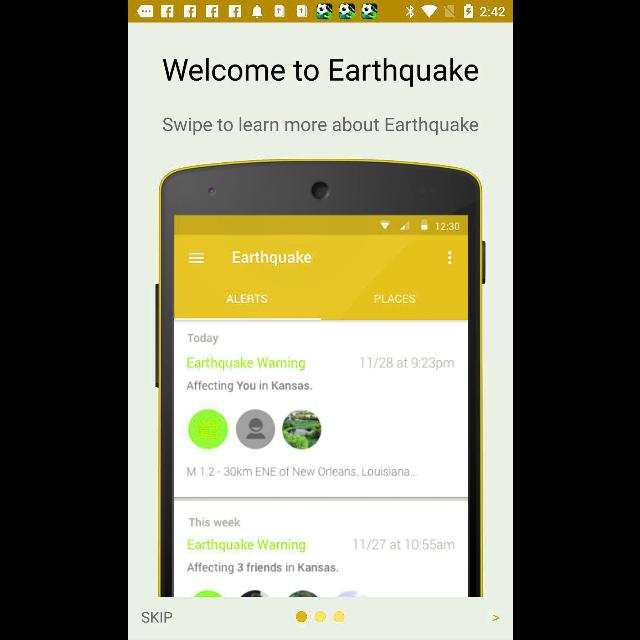icon: (492, 614, 500, 622)
image: (152, 158, 486, 596)
pageindicator: (294, 611, 344, 623)
text: (162, 58, 478, 88), (162, 116, 478, 136), (140, 610, 172, 624)
uppertaskbar: (128, 1, 512, 23)
